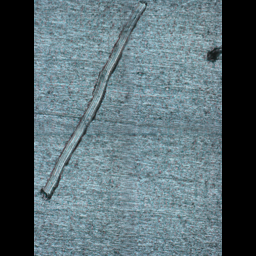d: (39, 0, 149, 203)
